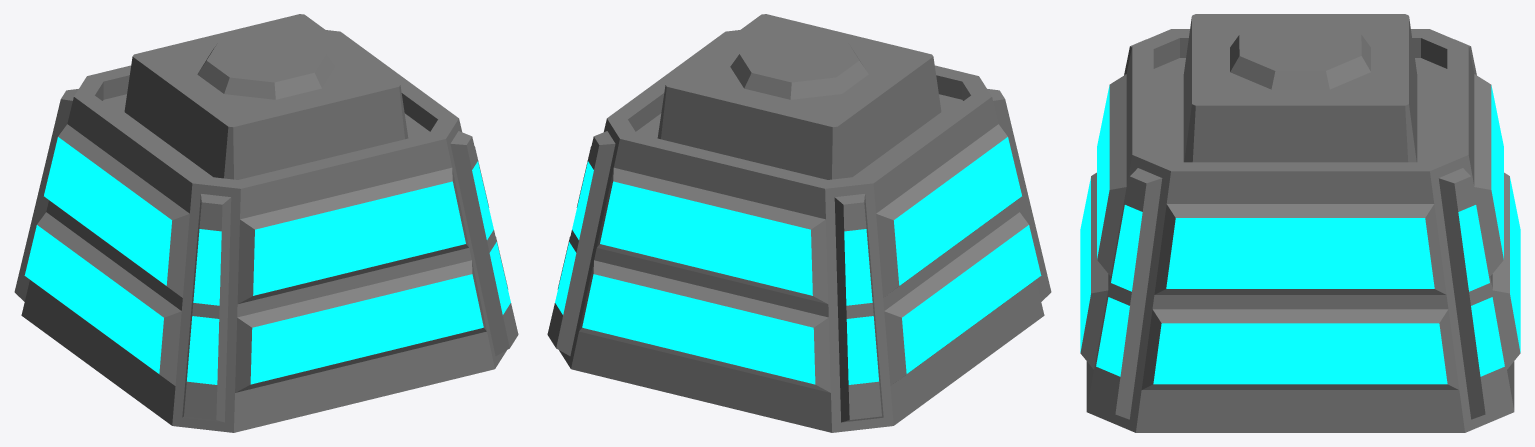
3 views of the same model, side by side, from view 1: azimuth 30°, elevation 25°; view 2: azimuth 150°, elevation 25°; view 3: azimuth 270°, elevation 25° (orthographic). The views are drawn at different scales.
Parts seen in each view (by area): view 1: Base2; view 2: Base2; view 3: Base2.
Part boxes in pixels (bbox=[...]): Base2: bbox=[14, 14, 518, 432]; Base2: bbox=[547, 14, 1051, 432]; Base2: bbox=[1080, 14, 1520, 432].
Bounding box in the file's own units: 82.27 × 61.33 × 82.27.
